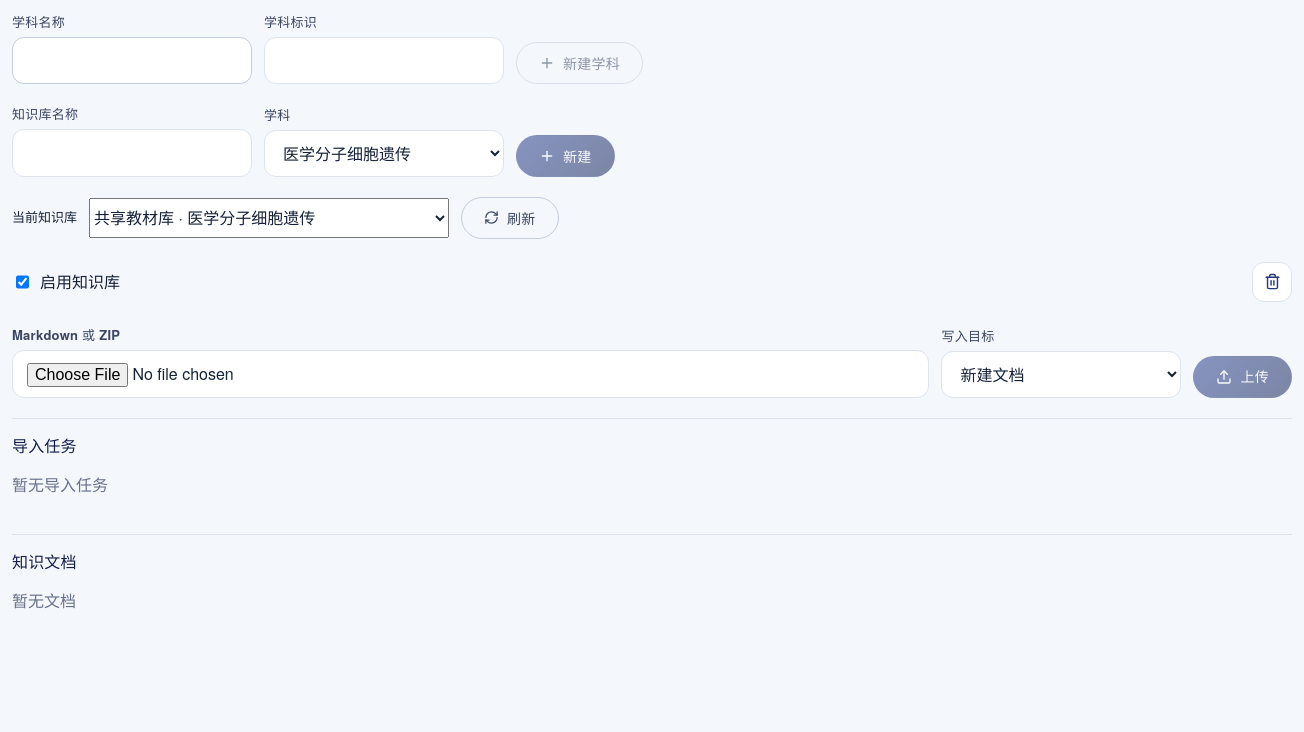
Test: AdminKnowledge › creates a subject and selects it for the next library
The width and height of the screenshot is (1304, 732).
Step 1. Type "生理学" into the field with id "knowledge-subject-name" → (132, 61), box [12,37,252,84]
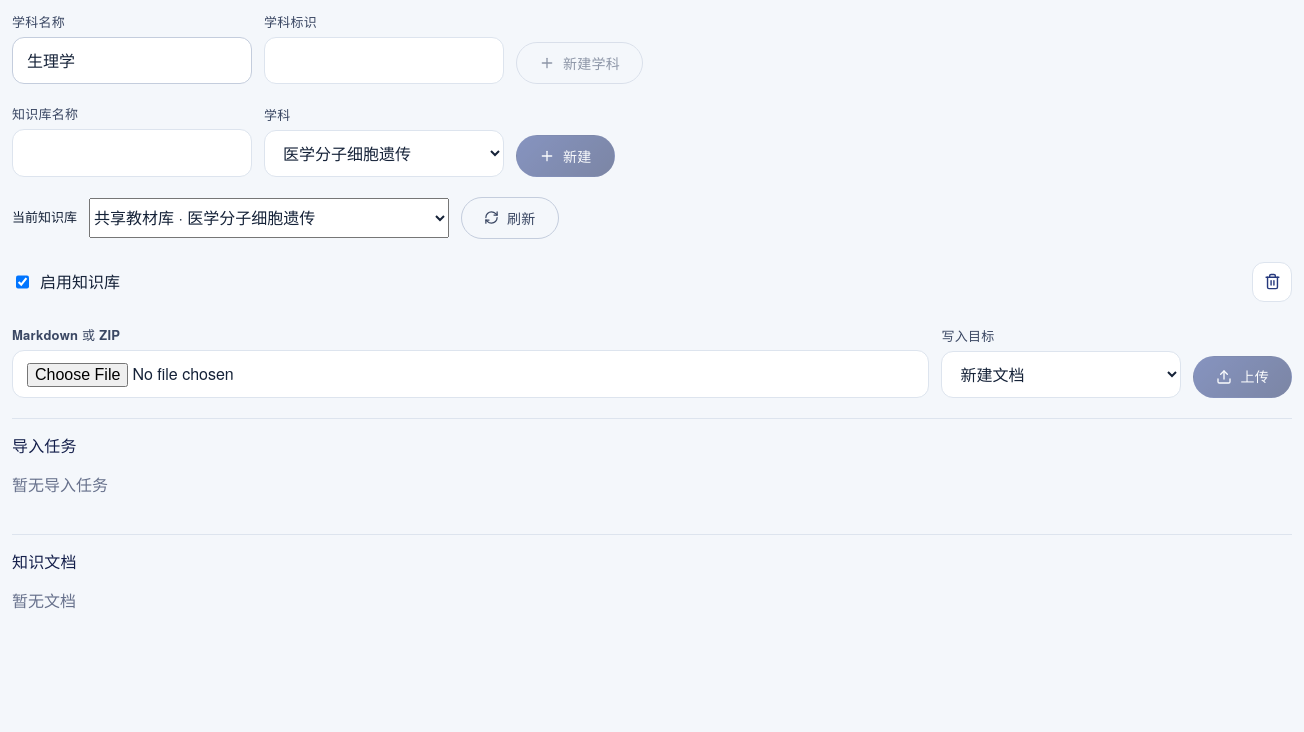
Step 2. Type "physiology" into the field with id "knowledge-subject-slug" → (384, 61), box [264,37,504,84]
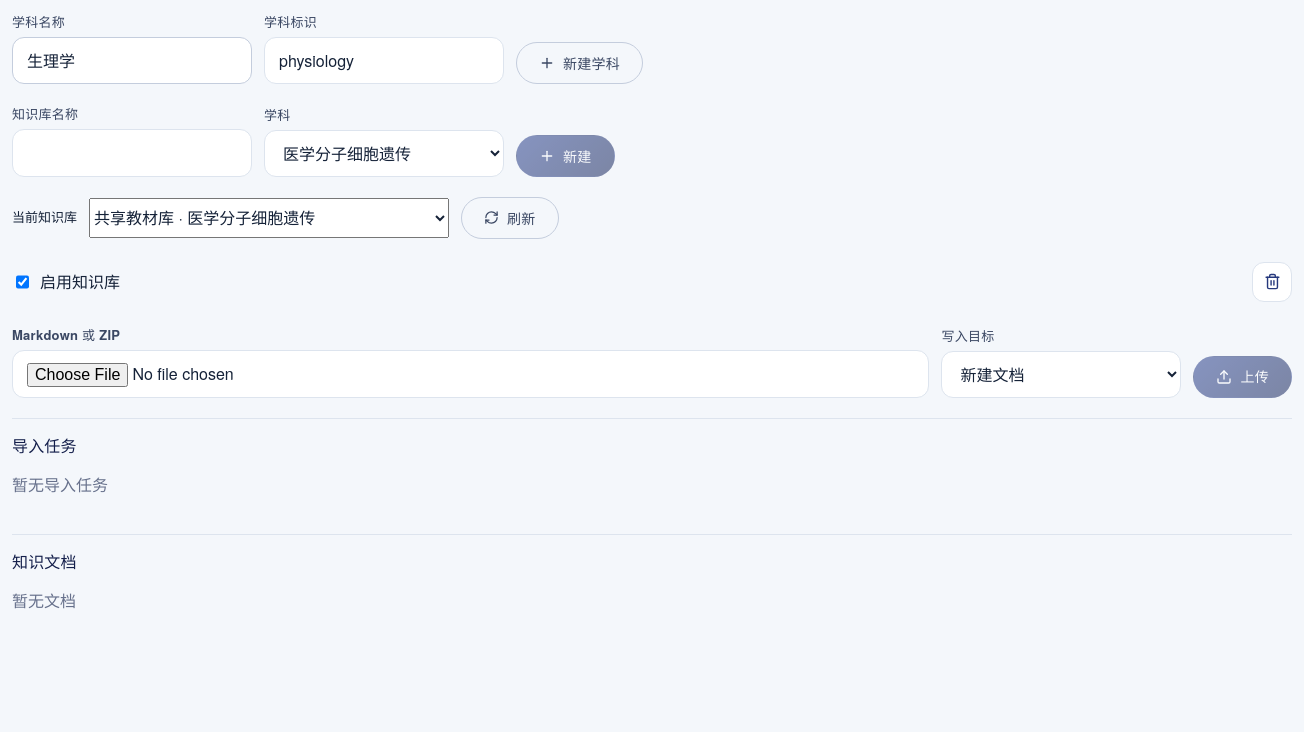
Step 3. Submit the form with class "library-create" showing "学科名称 学科标识 新建学科", box [12,12,643,84]
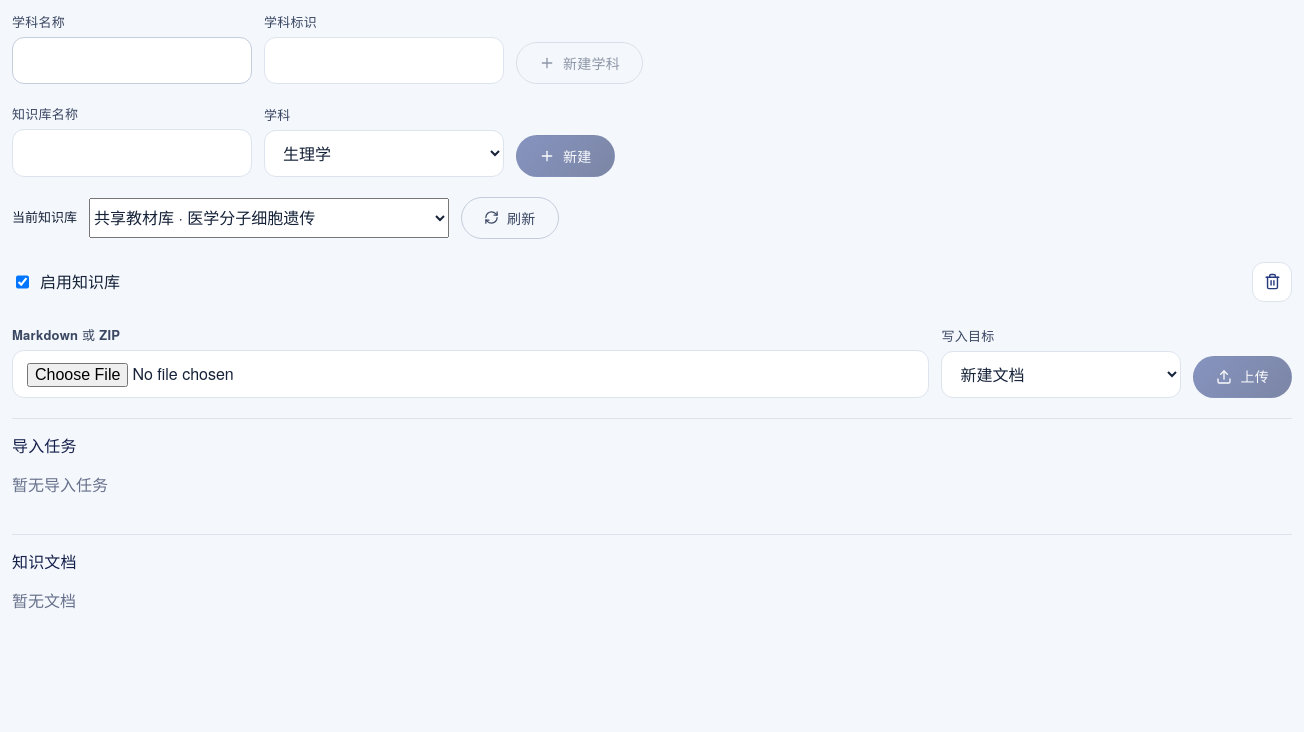
Now the dropdown with id "library-subject-SHARED" shows "生理学", box [264,130,504,177]
